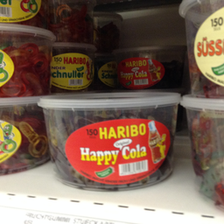candy: (44, 87, 182, 187), (149, 92, 224, 200), (172, 1, 224, 93), (1, 95, 54, 183), (1, 25, 58, 95)
